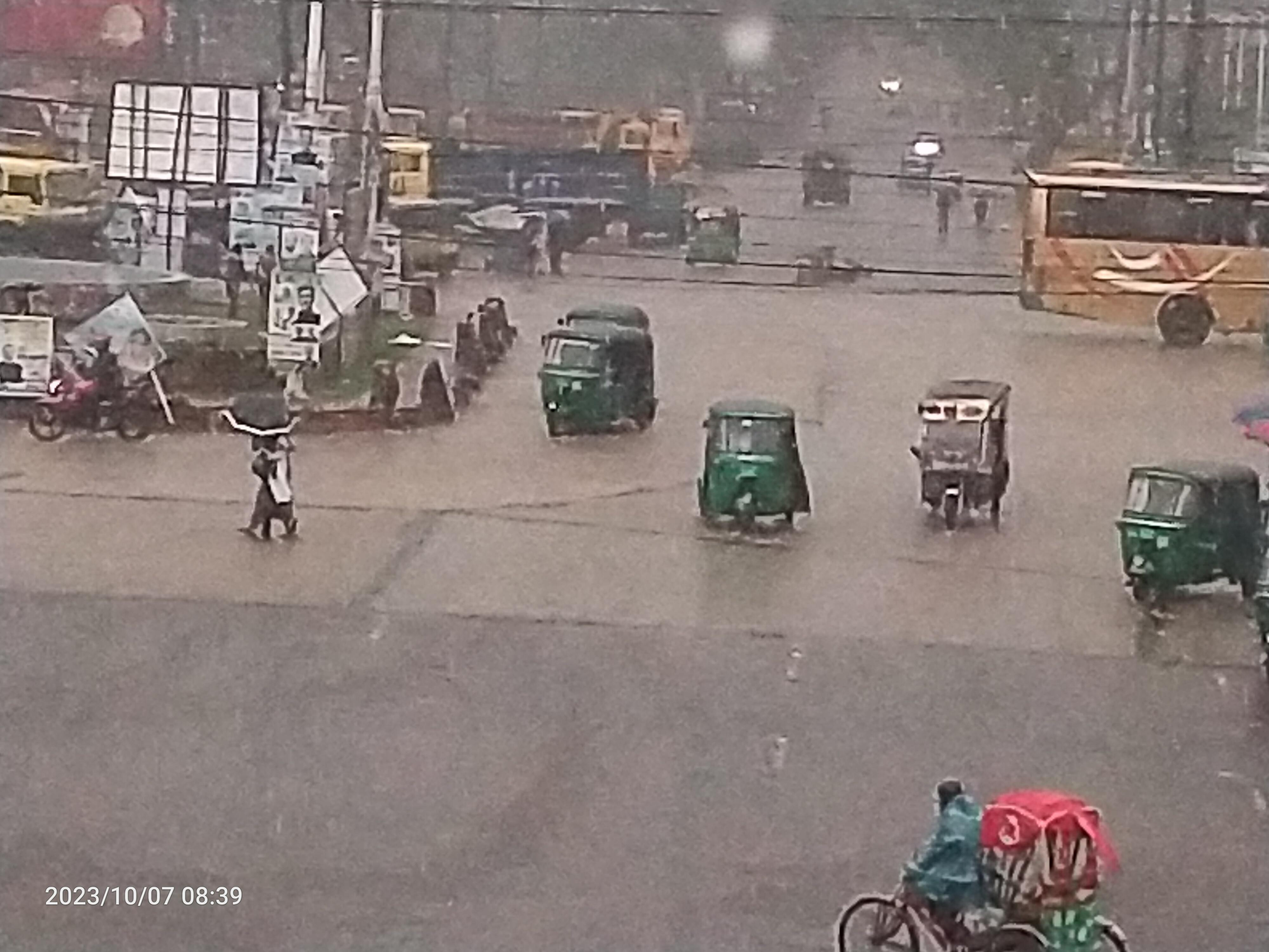Bike: (6, 320, 181, 464)
Bus: (979, 149, 1269, 370)
Car: (758, 733, 1208, 952), (882, 352, 1055, 572)
